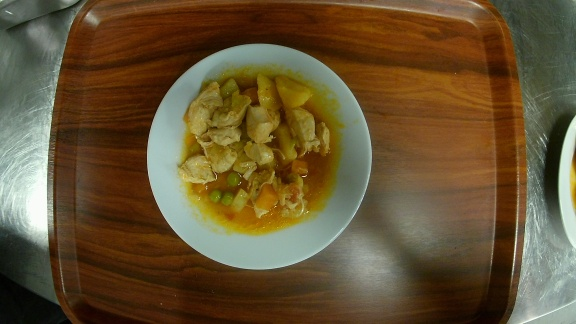bezelyelitavuk: (144, 41, 375, 273)
